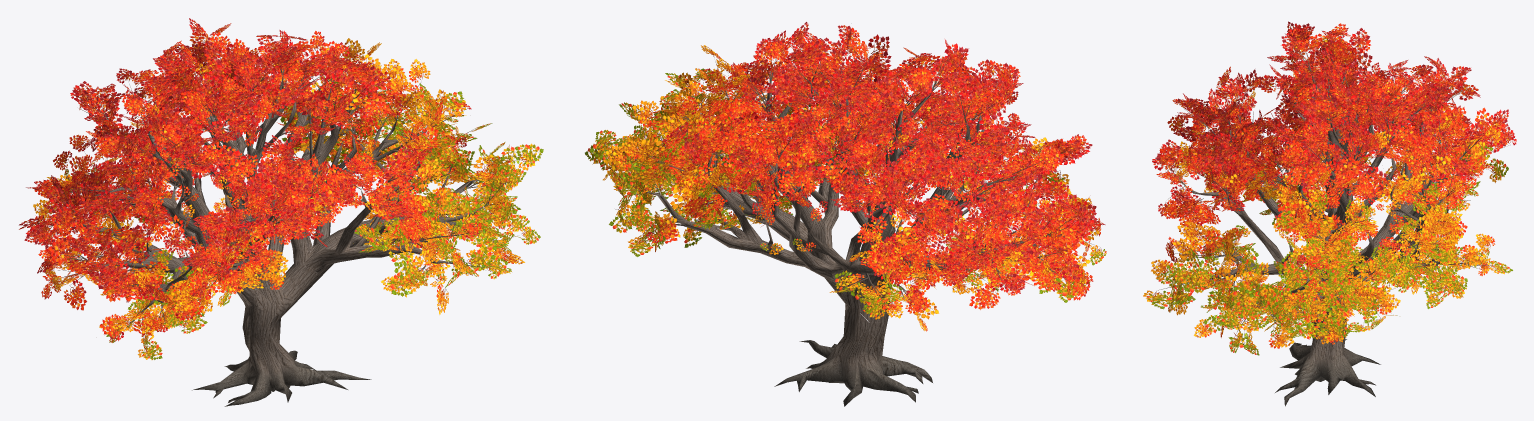
The model's file is Triadica_Autumn_LOD1.glb.
The picture shows the model from 3 angles, left to right: view 1: azimuth 30°, elevation 25°; view 2: azimuth 150°, elevation 25°; view 3: azimuth 270°, elevation 25°; orthographic projection. The views are drawn at different scales.
Visible parts, largest first — view 1: Triadica_Autumn_Shoots_LOD1, Triadica_Wood_LOD1; view 2: Triadica_Autumn_Shoots_LOD1, Triadica_Wood_LOD1; view 3: Triadica_Autumn_Shoots_LOD1, Triadica_Wood_LOD1.
Part boxes in pixels (left/top/right/bottom): Triadica_Autumn_Shoots_LOD1: left=19, top=18, right=543, bottom=359; Triadica_Wood_LOD1: left=34, top=36, right=518, bottom=406; Triadica_Autumn_Shoots_LOD1: left=585, top=22, right=1106, bottom=331; Triadica_Wood_LOD1: left=593, top=44, right=1093, bottom=406; Triadica_Autumn_Shoots_LOD1: left=1143, top=21, right=1516, bottom=355; Triadica_Wood_LOD1: left=1158, top=36, right=1508, bottom=406.
Size of the model in its own units: 17.09 by 11.72 by 12.37.
Materials: 2 (2 with a texture image).
